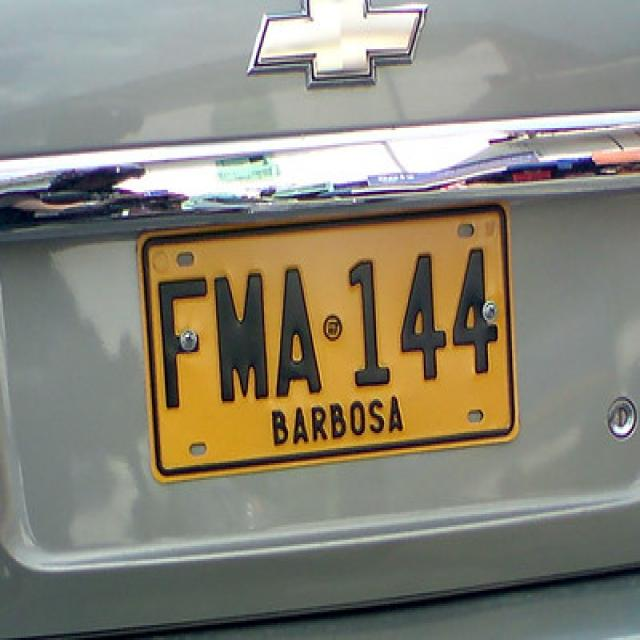placa_carro: (134, 201, 532, 493)
